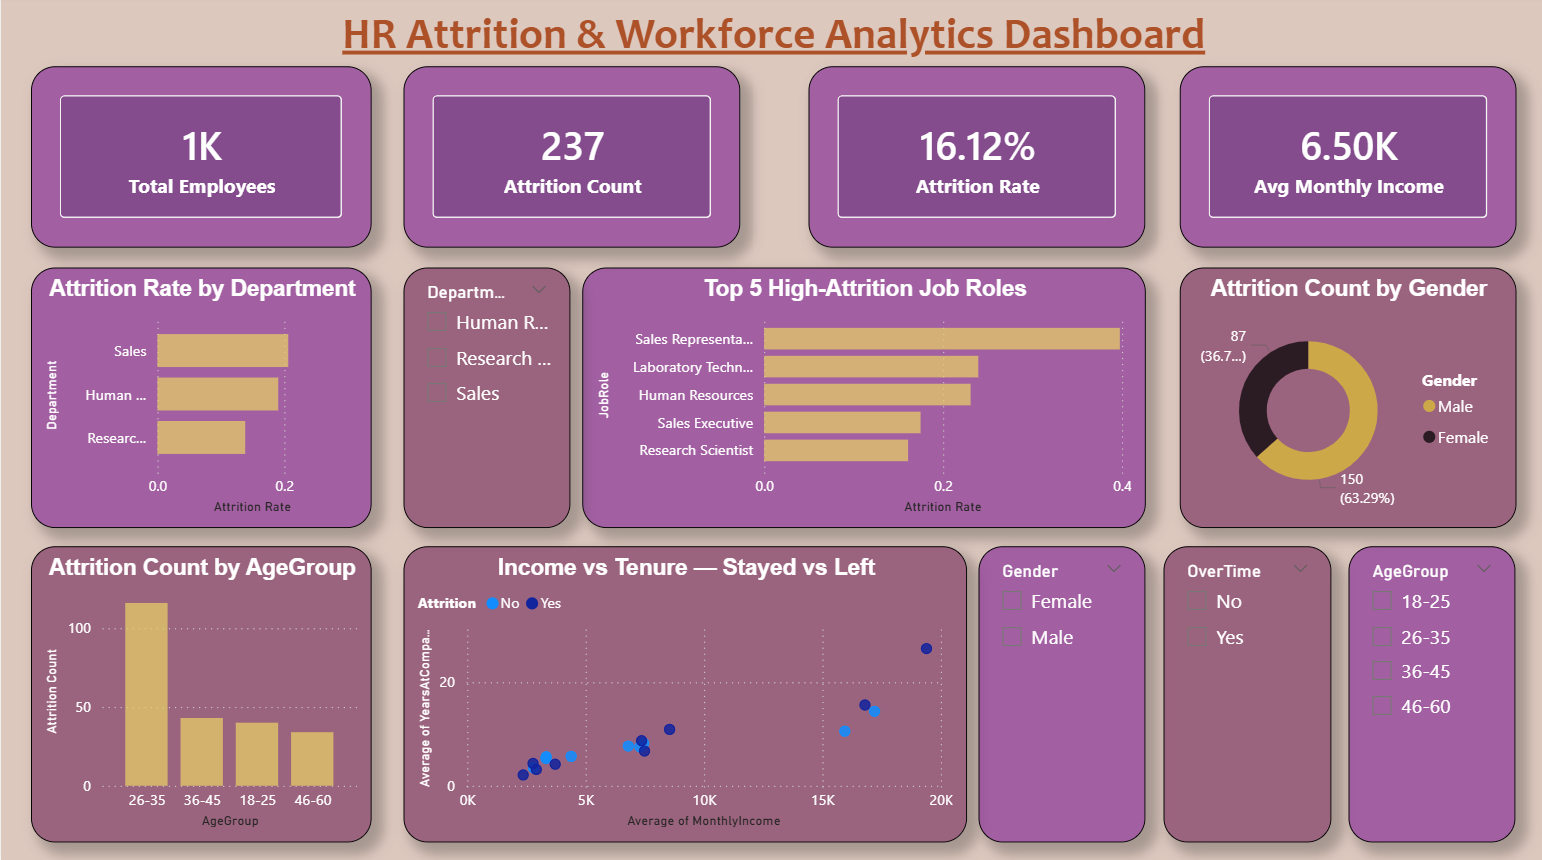

Layout of this report page (visuals, bound fields, positions):
{"tool":"powerbi","page":{"name":"Page 1","canvas":[1280,720],"ordinal":0},"visuals":[{"type":"cardVisual","fields":{"Data":["hr_cleaned.Total Employees"]},"box":[24.4,59.3,282.6,150],"z":0},{"type":"cardVisual","fields":{"Data":["hr_cleaned.Attrition Count"]},"box":[333.7,59.3,279.1,150],"z":1000},{"type":"cardVisual","fields":{"Data":["hr_cleaned.Attrition Rate"]},"box":[669.8,59.3,279.1,150],"z":2000},{"type":"cardVisual","fields":{"Data":["hr_cleaned.Avg Monthly Income"]},"box":[976.7,59.3,279.1,150],"z":3000},{"type":"clusteredBarChart","title":"Attrition Rate by Department","fields":{"Y":["hr_cleaned.Attrition Rate"],"Category":["hr_cleaned.Department"]},"box":[24.4,225.6,282.6,216.3],"z":4000},{"type":"barChart","title":"Top 5 High-Attrition Job Roles","fields":{"Category":["hr_cleaned.JobRole"],"Y":["hr_cleaned.Attrition Rate"]},"box":[481.4,225.6,467.4,216.3],"z":5000},{"type":"donutChart","fields":{"Category":["hr_cleaned.Gender"],"Y":["hr_cleaned.Attrition Count"]},"box":[976.7,225.6,279.1,216.3],"z":6000},{"type":"clusteredColumnChart","fields":{"Category":["hr_cleaned.AgeGroup"],"Y":["hr_cleaned.Attrition Count"]},"box":[24.4,457,282.6,245.3],"z":7000},{"type":"scatterChart","title":"Income vs Tenure — Stayed vs Left","fields":{"X":["Avg(hr_cleaned.MonthlyIncome)"],"Y":["Avg(hr_cleaned.YearsAtCompany)"],"Series":["hr_cleaned.Attrition"],"Category":["hr_cleaned.JobRole"]},"box":[333.7,457,467.4,245.3],"z":8000},{"type":"slicer","fields":{"Values":["hr_cleaned.Department"]},"box":[333.7,225.6,138.4,216.3],"z":9000},{"type":"slicer","fields":{"Values":["hr_cleaned.Gender"]},"box":[810.5,457,138.4,245.3],"z":10000},{"type":"slicer","fields":{"Values":["hr_cleaned.OverTime"]},"box":[964,457,139.5,245.3],"z":11000},{"type":"slicer","fields":{"Values":["hr_cleaned.AgeGroup"]},"box":[1117.4,457,138.4,245.3],"z":12000},{"type":"textbox","title":"HR Attrition & Workforce Analytics Dashboard","box":[219.8,9.3,841.9,50],"z":13000}]}

Visuals, with their boxes in screenshot pixels (x1, y1, x2, y2), scaled from the page's 1280x720 canvas onto the 1542x860 screenshot:
cardVisual - hr_cleaned.Total Employees: l=29, t=71, r=370, b=250
cardVisual - hr_cleaned.Attrition Count: l=402, t=71, r=738, b=250
cardVisual - hr_cleaned.Attrition Rate: l=807, t=71, r=1143, b=250
cardVisual - hr_cleaned.Avg Monthly Income: l=1177, t=71, r=1513, b=250
"Attrition Rate by Department" clusteredBarChart: l=29, t=269, r=370, b=528
"Top 5 High-Attrition Job Roles" barChart: l=580, t=269, r=1143, b=528
donutChart - hr_cleaned.Gender x hr_cleaned.Attrition Count: l=1177, t=269, r=1513, b=528
clusteredColumnChart - hr_cleaned.AgeGroup x hr_cleaned.Attrition Count: l=29, t=546, r=370, b=839
"Income vs Tenure — Stayed vs Left" scatterChart: l=402, t=546, r=965, b=839
slicer - hr_cleaned.Department: l=402, t=269, r=569, b=528
slicer - hr_cleaned.Gender: l=976, t=546, r=1143, b=839
slicer - hr_cleaned.OverTime: l=1161, t=546, r=1329, b=839
slicer - hr_cleaned.AgeGroup: l=1346, t=546, r=1513, b=839
"HR Attrition & Workforce Analytics Dashboard" textbox: l=265, t=11, r=1279, b=71
